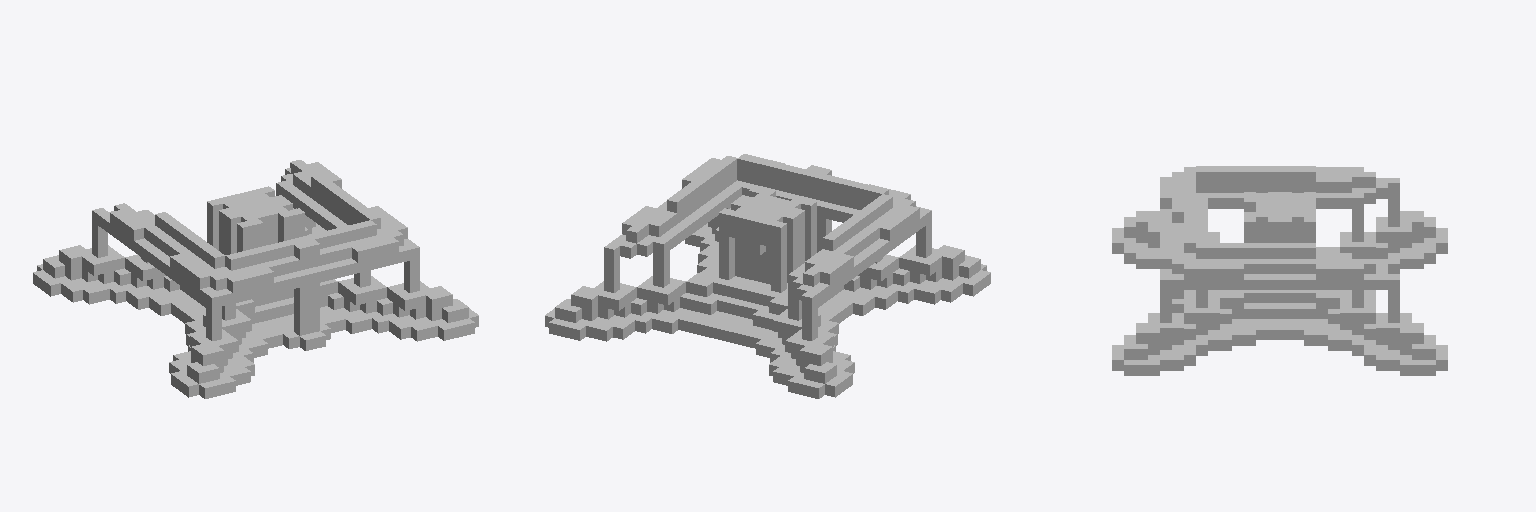
The model's file is Artilleriegeschütz Grundgerüst.obj.
3 views of the same model, side by side, from view 1: azimuth 30°, elevation 25°; view 2: azimuth 150°, elevation 25°; view 3: azimuth 270°, elevation 25° (orthographic).
Parts seen in each view (by area): view 1: Artilleriegeschütz Grundgerüst; view 2: Artilleriegeschütz Grundgerüst; view 3: Artilleriegeschütz Grundgerüst.
Boxes of the visible parts, x1=… form: Artilleriegeschütz Grundgerüst: x1=33, y1=160, x2=478, y2=398; Artilleriegeschütz Grundgerüst: x1=545, y1=154, x2=990, y2=398; Artilleriegeschütz Grundgerüst: x1=1112, y1=166, x2=1447, y2=375.
Bounding box in the file's own units: 28 × 9 × 28.